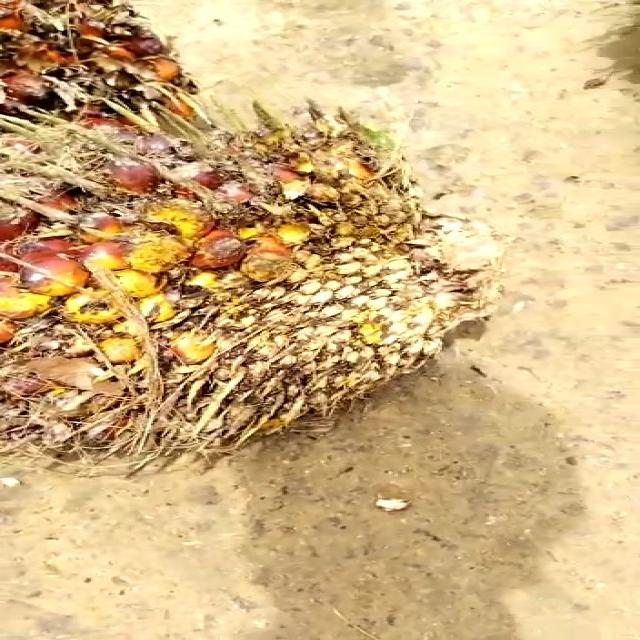palm oil: (0, 96, 515, 484)
